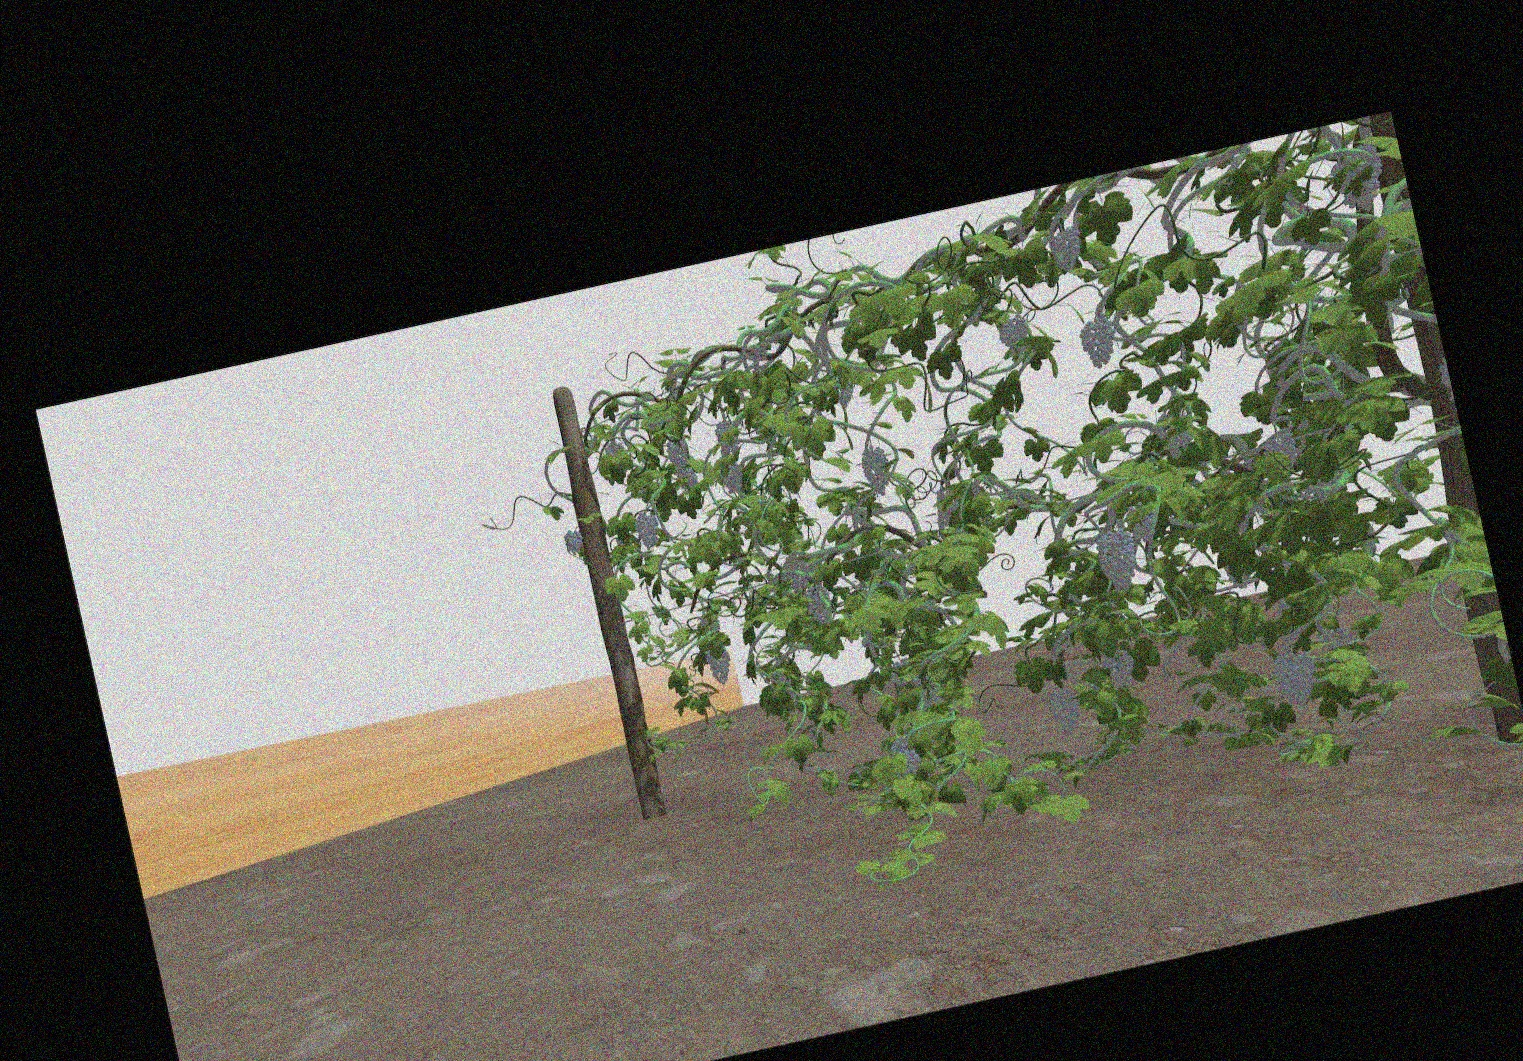grape: (1331, 147, 1384, 212), (1097, 529, 1138, 592), (1274, 649, 1317, 707), (1080, 315, 1117, 368), (1050, 685, 1082, 737), (862, 445, 892, 496), (1053, 224, 1083, 268), (1102, 649, 1134, 688), (891, 738, 919, 778), (707, 646, 733, 685), (805, 585, 831, 622), (635, 510, 659, 550), (783, 557, 809, 591), (998, 318, 1028, 346), (722, 465, 744, 494), (665, 436, 687, 465), (562, 529, 583, 554), (677, 465, 698, 489)
